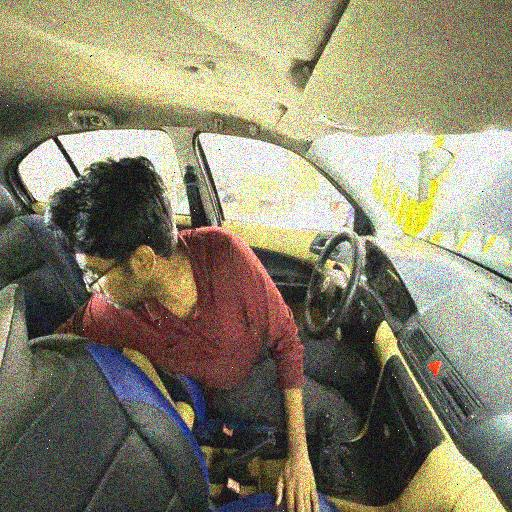Reaching_behind: (29, 154, 349, 417)
